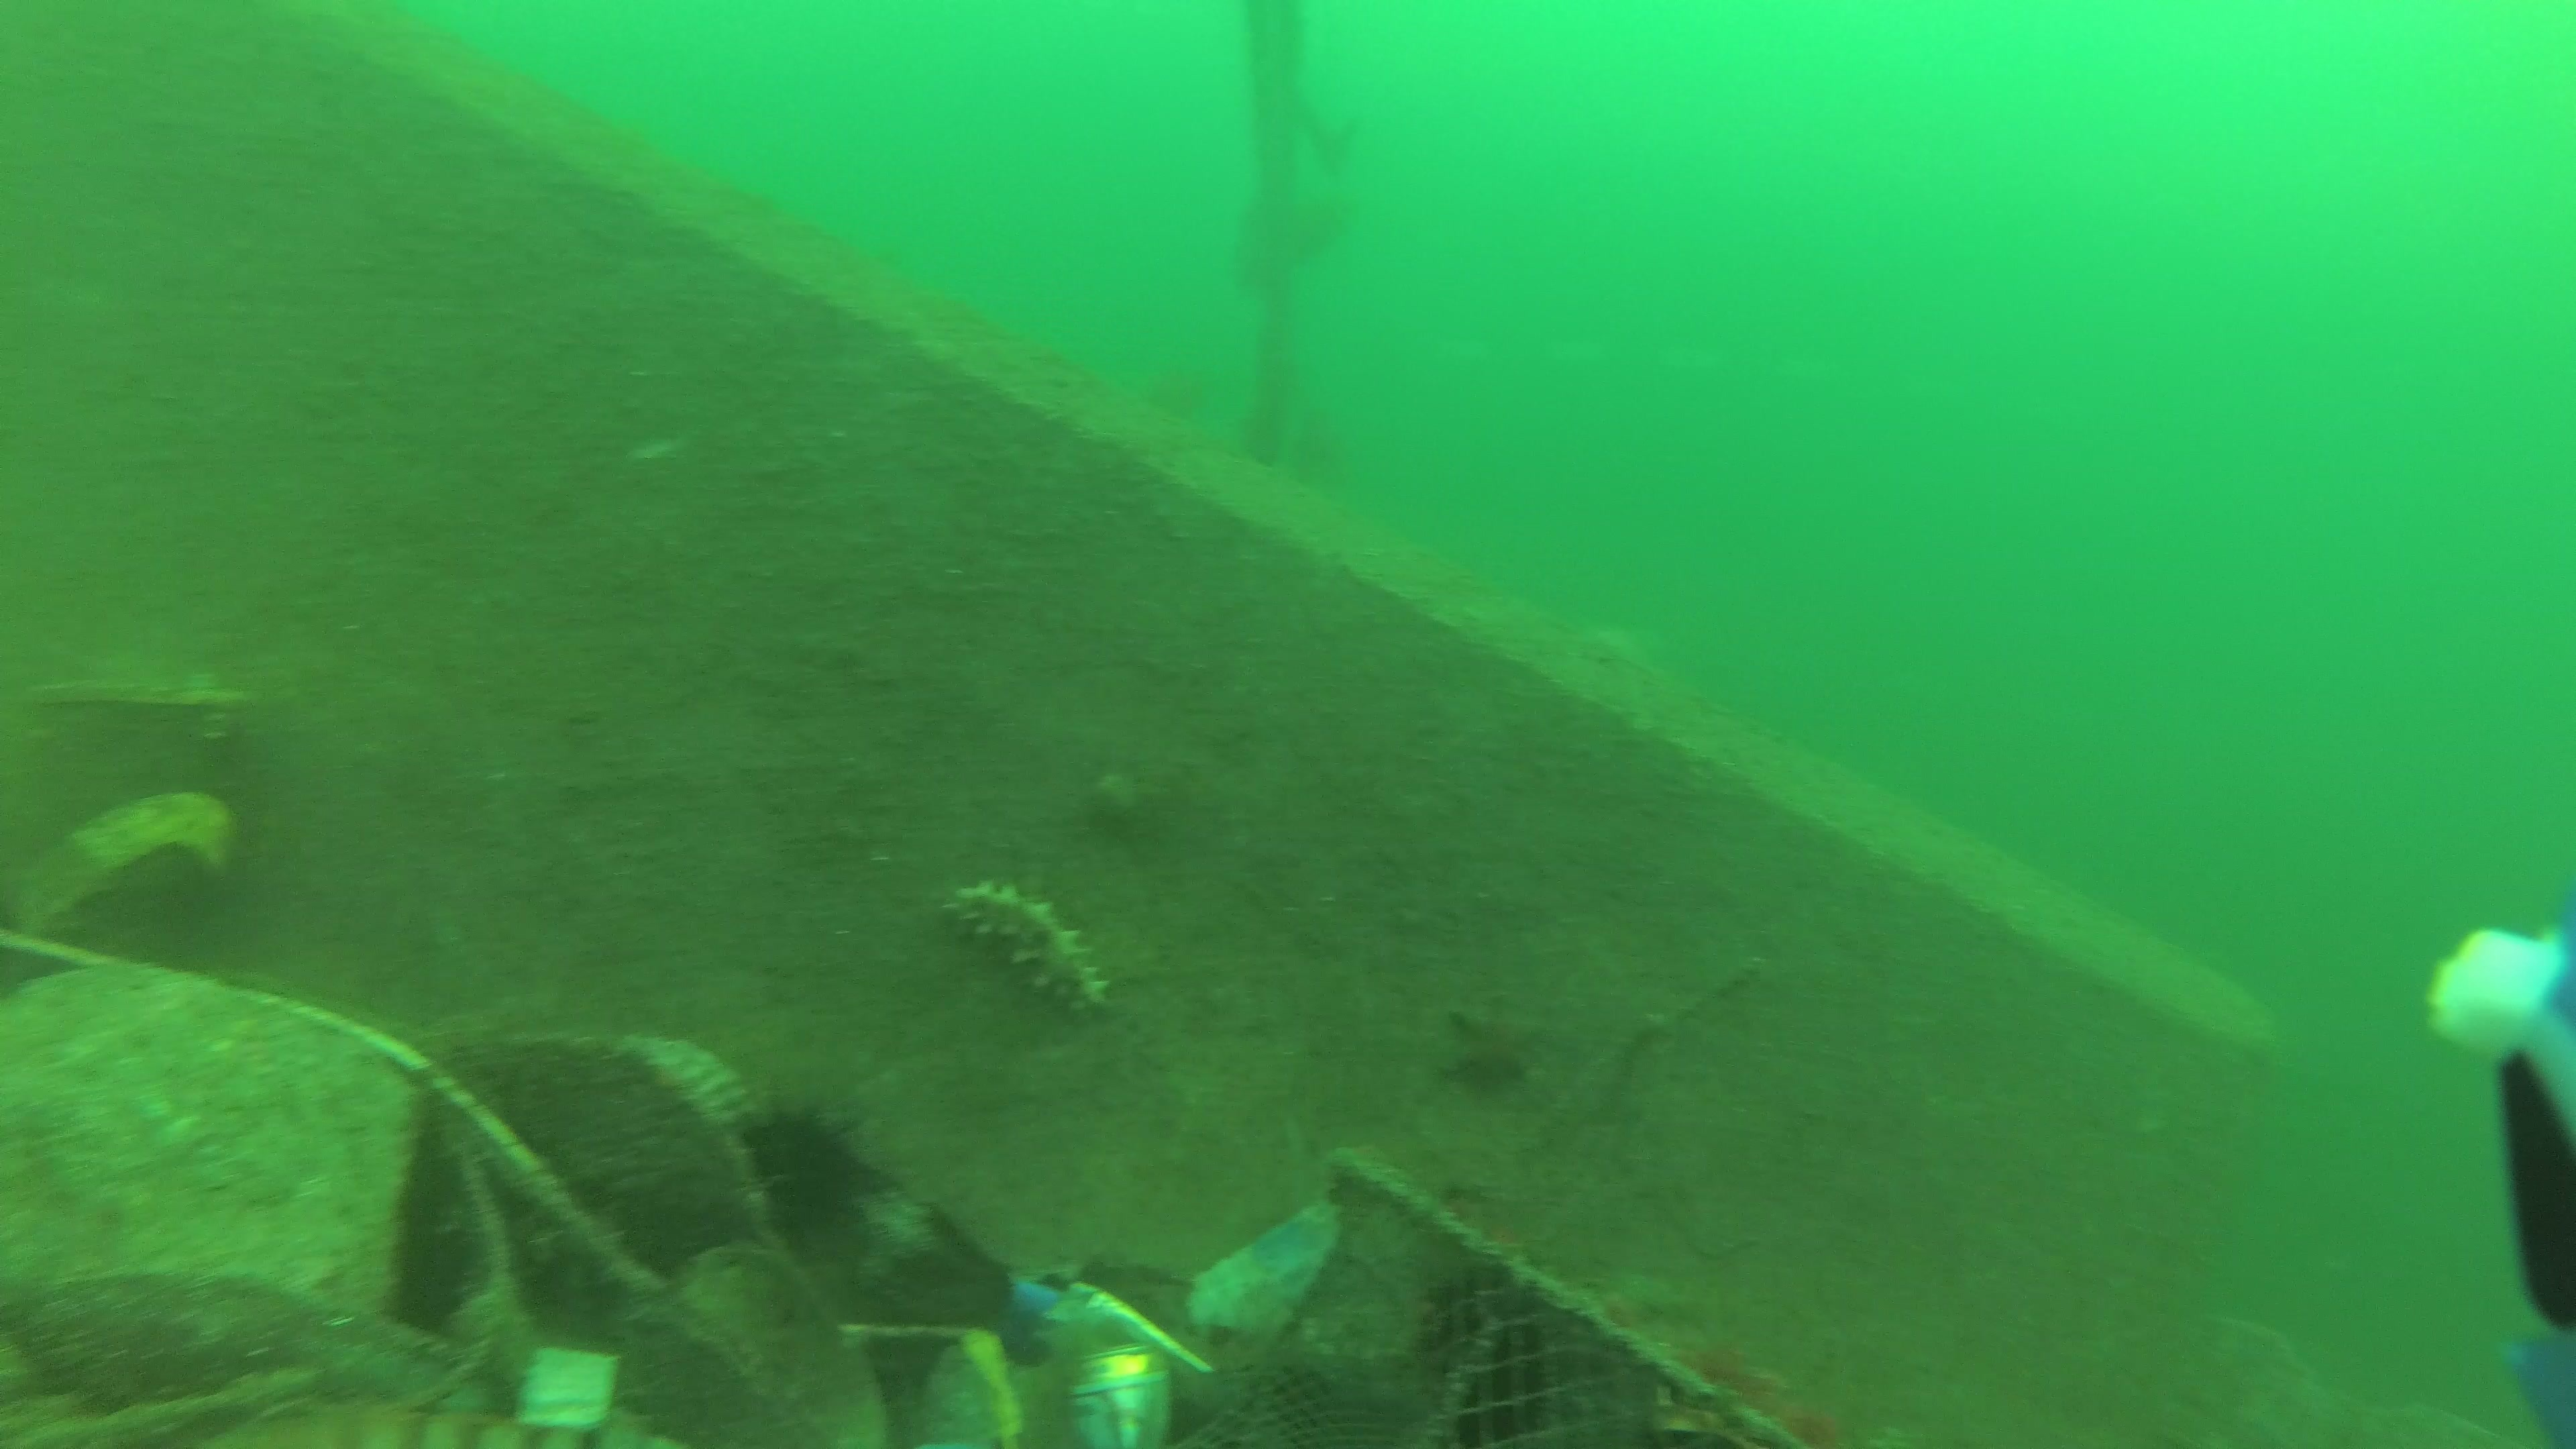echinus: (1412, 1261, 1564, 1449), (738, 1095, 888, 1246)
holothurian: (939, 878, 1113, 1023)
starfish: (1435, 989, 1546, 1090)
